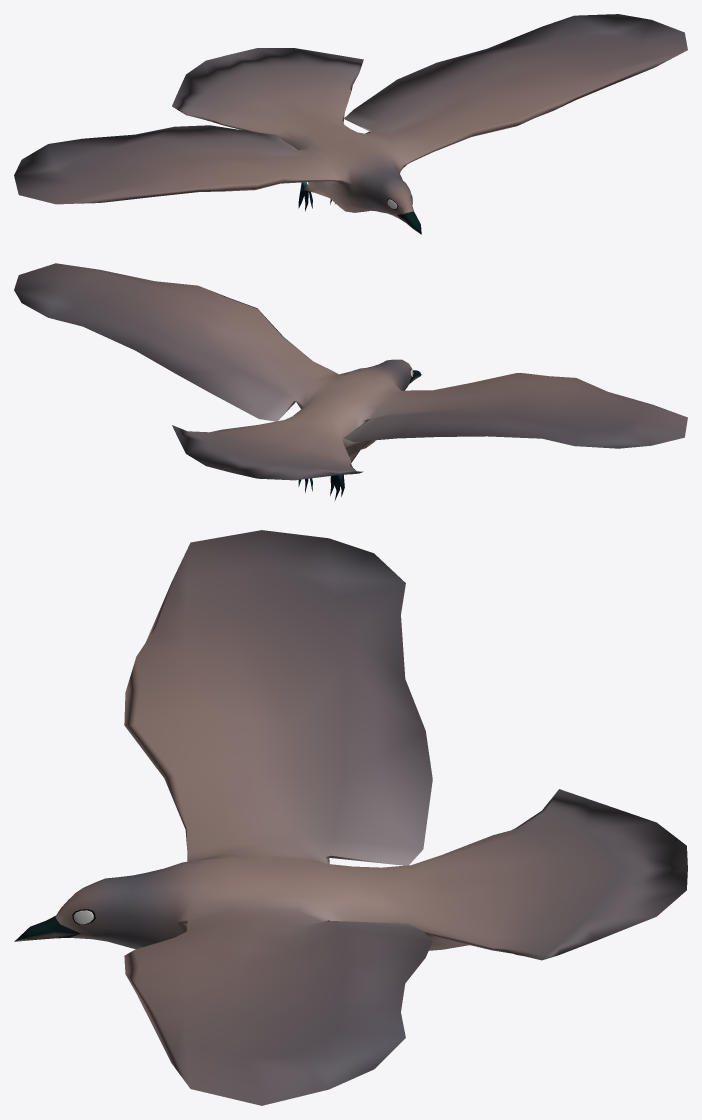
File: animals-imaginary-curow_v1.glb
3 views of the same model, one above another, from view 1: azimuth 30°, elevation 25°; view 2: azimuth 150°, elevation 25°; view 3: azimuth 270°, elevation 25° (orthographic). The views are drawn at different scales.
Visible parts, largest first — view 1: Curow.001; view 2: Curow.001; view 3: Curow.001.
Boxes of the visible parts, bbox=[...] form: Curow.001: bbox=[14, 14, 687, 234]; Curow.001: bbox=[14, 263, 687, 500]; Curow.001: bbox=[14, 530, 687, 1105].
Size of the model in its own units: 2.32 by 0.4075 by 1.15.
